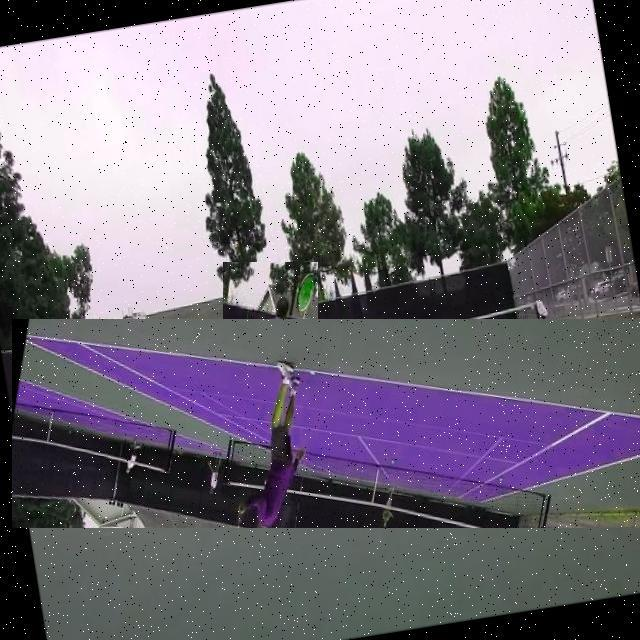court: (12, 319, 640, 528)
player: (223, 262, 320, 490)
